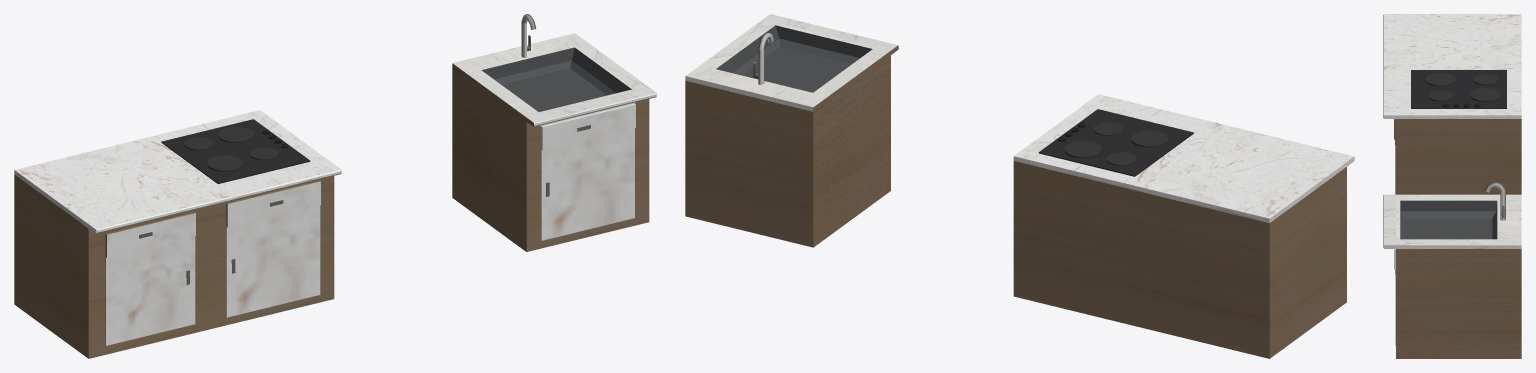
The model's file is Encimera.fbx.
3 renders of one model, left to right at view 1: azimuth 30°, elevation 25°; view 2: azimuth 150°, elevation 25°; view 3: azimuth 270°, elevation 25°, orthographic. The views are drawn at different scales.
Visible parts, largest first — view 1: Cube, Cube.005, Cylinder.001; view 2: Cube, Cube.005, Cylinder.001; view 3: Cube, Cube.005, Cylinder.001, Cylinder.002.
Part boxes in pixels (bbox=[...]): Cube: bbox=[14, 110, 341, 358]; Cube.005: bbox=[452, 33, 656, 251]; Cylinder.001: bbox=[184, 126, 278, 171]; Cube: bbox=[1013, 94, 1354, 358]; Cube.005: bbox=[685, 14, 898, 247]; Cylinder.001: bbox=[1064, 122, 1168, 166]; Cube: bbox=[1383, 14, 1521, 194]; Cube.005: bbox=[1383, 194, 1521, 358]; Cylinder.001: bbox=[1425, 72, 1501, 102]; Cylinder.002: bbox=[1484, 181, 1505, 220].
Bounding box in the file's own units: 609 × 186 × 154.
